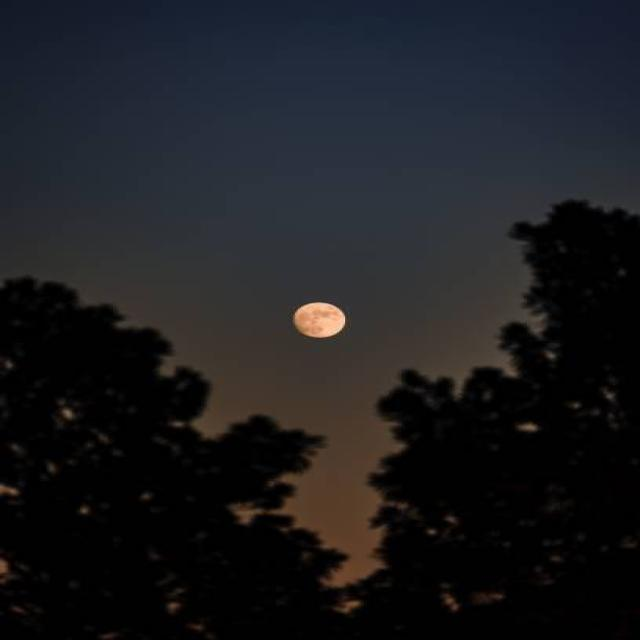moon: (270, 297, 350, 344)
